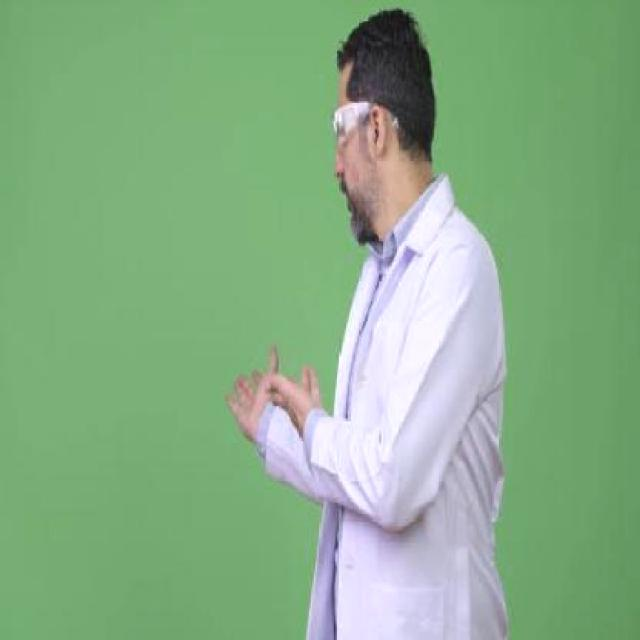face_nomask: (324, 105, 364, 228)
glasses: (333, 92, 398, 142)
hand_noglove: (221, 340, 284, 443), (261, 358, 322, 428)
head_nohelmet: (326, 4, 425, 93)
person: (225, 11, 518, 640)
